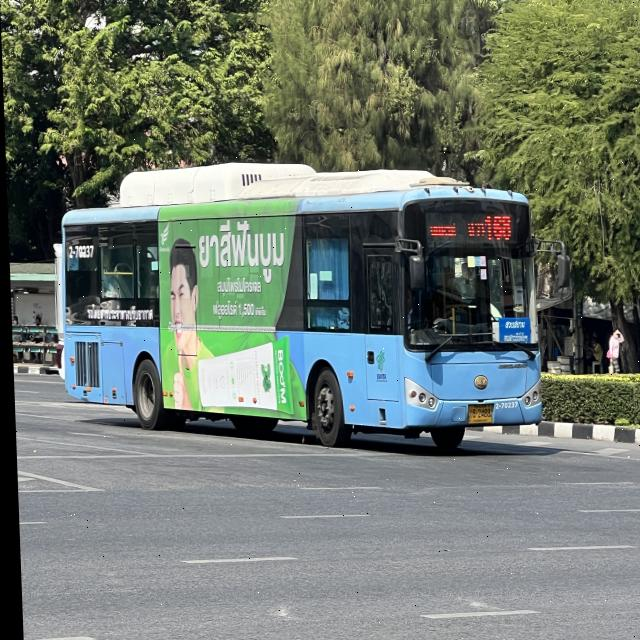BMTA-bus: (53, 164, 542, 454)
Bus Line Number: (481, 210, 512, 244)
Bus Side Number: (62, 242, 95, 261), (489, 398, 517, 412)
Destination Sign: (494, 318, 530, 347)
